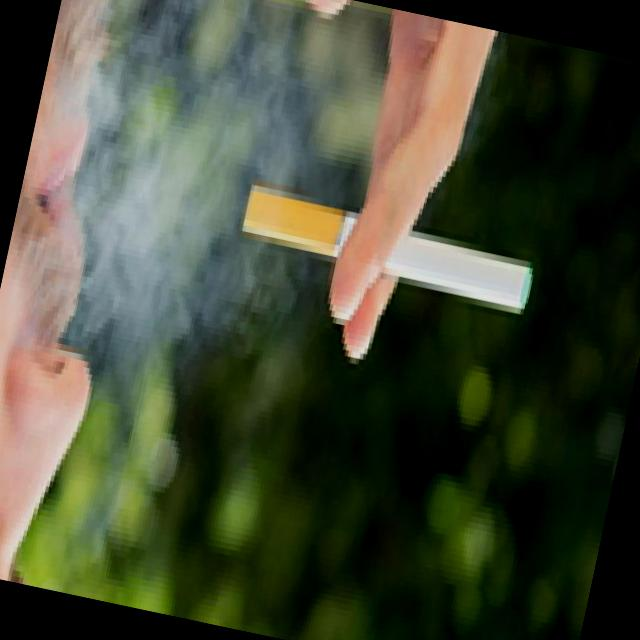cigarette: (236, 185, 546, 334)
